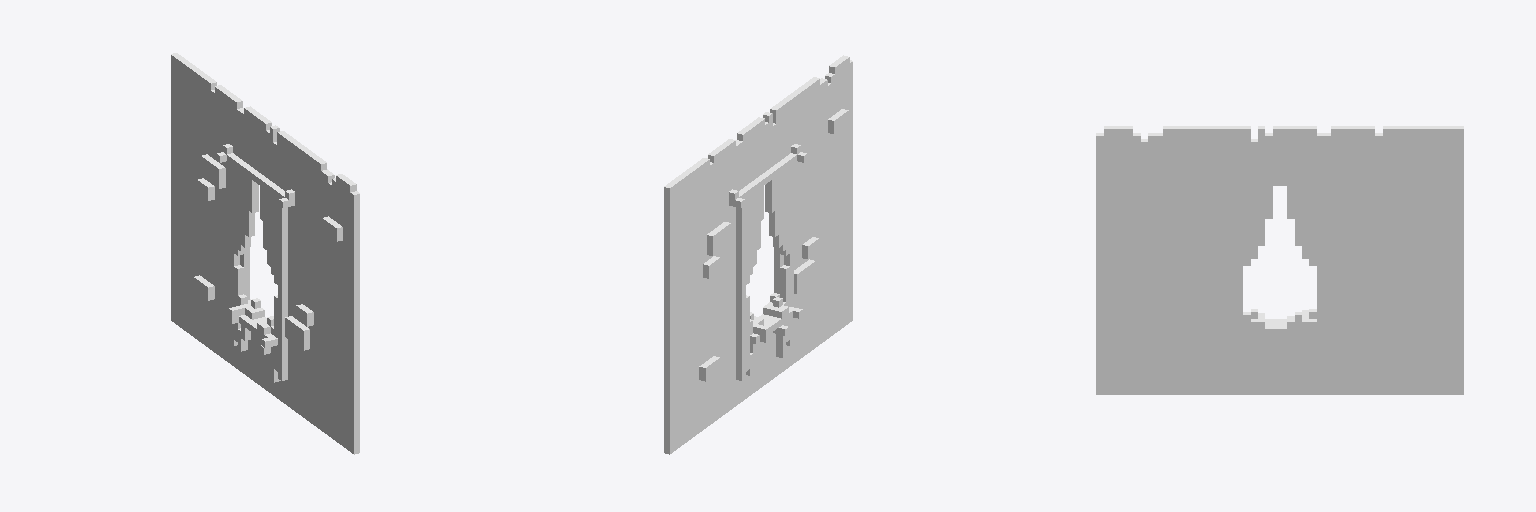
The model's file is Desert-37-Wall_PrincessWindow.obj.
The picture shows the model from 3 angles: view 1: azimuth 30°, elevation 25°; view 2: azimuth 150°, elevation 25°; view 3: azimuth 270°, elevation 25°; orthographic projection.
Parts seen in each view (by area): view 1: Wall_PrincessWindow; view 2: Wall_PrincessWindow; view 3: Wall_PrincessWindow.
Part boxes in pixels (x1,y1,x2,y2): Wall_PrincessWindow: (171, 53, 359, 454); Wall_PrincessWindow: (664, 55, 852, 454); Wall_PrincessWindow: (1096, 126, 1463, 394).
Size of the model in its own units: 0.4 by 4 by 5.